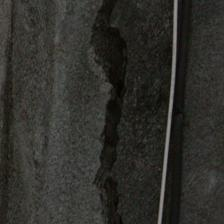Crack: (44, 3, 94, 221)
